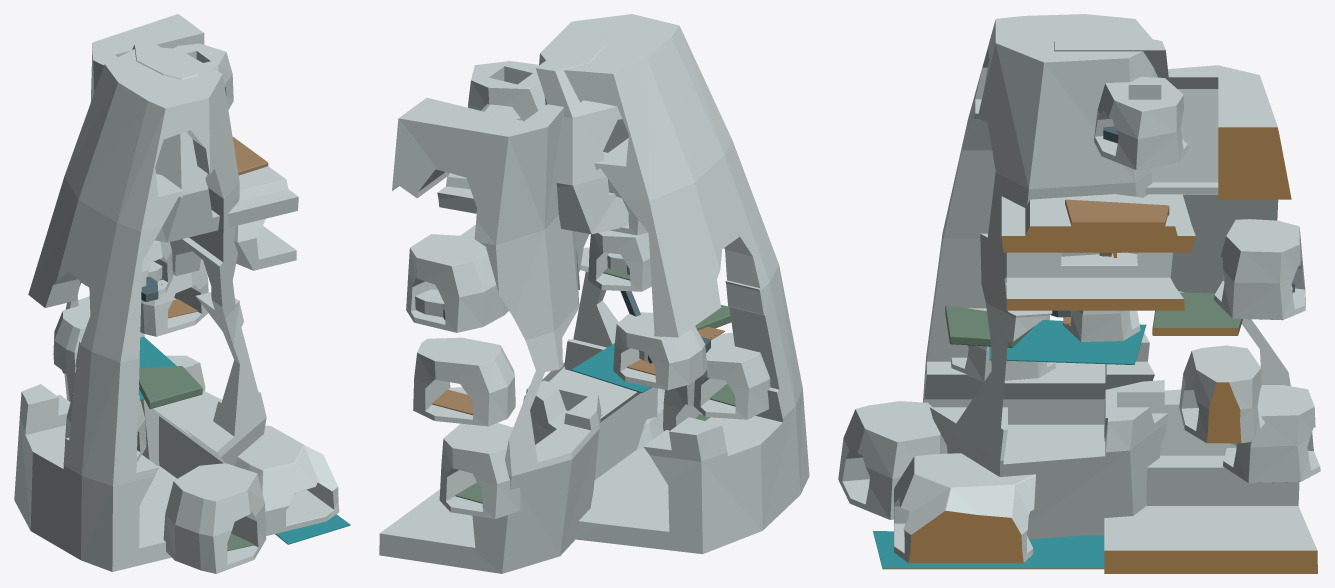
The model's file is SECTION_YZ_X0.glb.
3 renders of one model, left to right at view 1: azimuth 30°, elevation 25°; view 2: azimuth 150°, elevation 25°; view 3: azimuth 270°, elevation 25°, orthographic. The views are drawn at different scales.
Parts seen in each view (by area): view 1: C01_WEST_DEEP__inhabited_land, R1_S01__inhabited_land, C04_CONFLUENCE_SKY__inhabited_land, R1_INNER_COAST__inhabited_land, C03_REAR_ARCHIVE__inhabited_land, R2_INTERWORLD_COMMON__inhabited_land, R1_N01__inhabited_land, West suspended cultivation, R1_W02__inhabited_land, R2_ZENITH__inhabited_land, R1_W03__inhabited_land, Lower confluence water (+3 smaller); view 2: C01_WEST_DEEP__inhabited_land, C03_REAR_ARCHIVE__inhabited_land, C04_CONFLUENCE_SKY__inhabited_land, R1_N01__inhabited_land, R2_N_HIGH__inhabited_land, R2_N_LOWER__inhabited_land, R1_W02__inhabited_land, R1_W01__inhabited_land, R2_ZENITH__inhabited_land, R1_W03__inhabited_land, Upper tidal world, R1_S01__inhabited_land (+3 smaller); view 3: C01_WEST_DEEP__inhabited_land, C03_REAR_ARCHIVE__inhabited_land, R2_INTERWORLD_COMMON__inhabited_land, R1_INNER_COAST__inhabited_land, R1_S01__inhabited_land, R2_N_HIGH__inhabited_land, R1_N01__inhabited_land, C04_CONFLUENCE_SKY__inhabited_land, R2_ZENITH__inhabited_land, R2_N_LOWER__inhabited_land, Lower confluence water, Upper tidal world (+5 smaller).
Boxes of the visible parts, bbox=[...] form: C01_WEST_DEEP__inhabited_land: bbox=[14, 47, 266, 571]; R1_S01__inhabited_land: bbox=[163, 463, 266, 573]; C04_CONFLUENCE_SKY__inhabited_land: bbox=[132, 39, 298, 242]; R1_INNER_COAST__inhabited_land: bbox=[235, 425, 339, 535]; C03_REAR_ARCHIVE__inhabited_land: bbox=[64, 14, 204, 465]; R2_INTERWORLD_COMMON__inhabited_land: bbox=[234, 166, 296, 270]; R1_N01__inhabited_land: bbox=[140, 259, 208, 336]; West suspended cultivation: bbox=[139, 366, 202, 408]; R1_W02__inhabited_land: bbox=[53, 303, 90, 376]; R2_ZENITH__inhabited_land: bbox=[173, 43, 233, 109]; R1_W03__inhabited_land: bbox=[141, 240, 172, 300]; Lower confluence water: bbox=[275, 514, 350, 544]; C01_WEST_DEEP__inhabited_land: bbox=[526, 14, 809, 554]; C03_REAR_ARCHIVE__inhabited_land: bbox=[379, 97, 601, 573]; C04_CONFLUENCE_SKY__inhabited_land: bbox=[437, 29, 628, 234]; R1_N01__inhabited_land: bbox=[413, 337, 515, 426]; R2_N_HIGH__inhabited_land: bbox=[406, 234, 508, 332]; R2_N_LOWER__inhabited_land: bbox=[439, 423, 522, 519]; R1_W02__inhabited_land: bbox=[613, 312, 707, 390]; R1_W01__inhabited_land: bbox=[693, 332, 770, 419]; R2_ZENITH__inhabited_land: bbox=[468, 61, 545, 121]; R1_W03__inhabited_land: bbox=[588, 230, 651, 291]; Upper tidal world: bbox=[571, 343, 651, 393]; R1_S01__inhabited_land: bbox=[663, 381, 702, 431]; C01_WEST_DEEP__inhabited_land: bbox=[923, 14, 1167, 539]; C03_REAR_ARCHIVE__inhabited_land: bbox=[1104, 65, 1317, 573]; R2_INTERWORLD_COMMON__inhabited_land: bbox=[1006, 194, 1184, 310]; R1_INNER_COAST__inhabited_land: bbox=[894, 453, 1035, 563]; R1_S01__inhabited_land: bbox=[838, 401, 947, 519]; R2_N_HIGH__inhabited_land: bbox=[1214, 219, 1305, 320]; R1_N01__inhabited_land: bbox=[1179, 345, 1265, 443]; C04_CONFLUENCE_SKY__inhabited_land: bbox=[1001, 33, 1195, 252]; R2_ZENITH__inhabited_land: bbox=[1094, 76, 1188, 169]; R2_N_LOWER__inhabited_land: bbox=[1223, 385, 1320, 482]; Lower confluence water: bbox=[873, 531, 1104, 569]; Upper tidal world: bbox=[989, 320, 1146, 364].
Size of the model in its own units: 2750 by 4560 by 4152.
